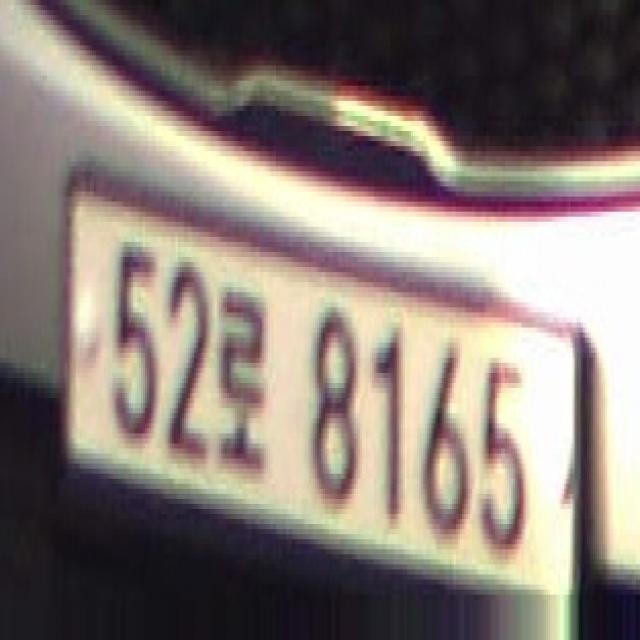1: (368, 321, 409, 530)
2: (164, 252, 210, 484)
5: (472, 340, 526, 576), (110, 226, 157, 449)
6: (416, 336, 471, 556)
8: (307, 290, 363, 526)
license_plate: (57, 141, 597, 633)
lo: (217, 284, 270, 498)
